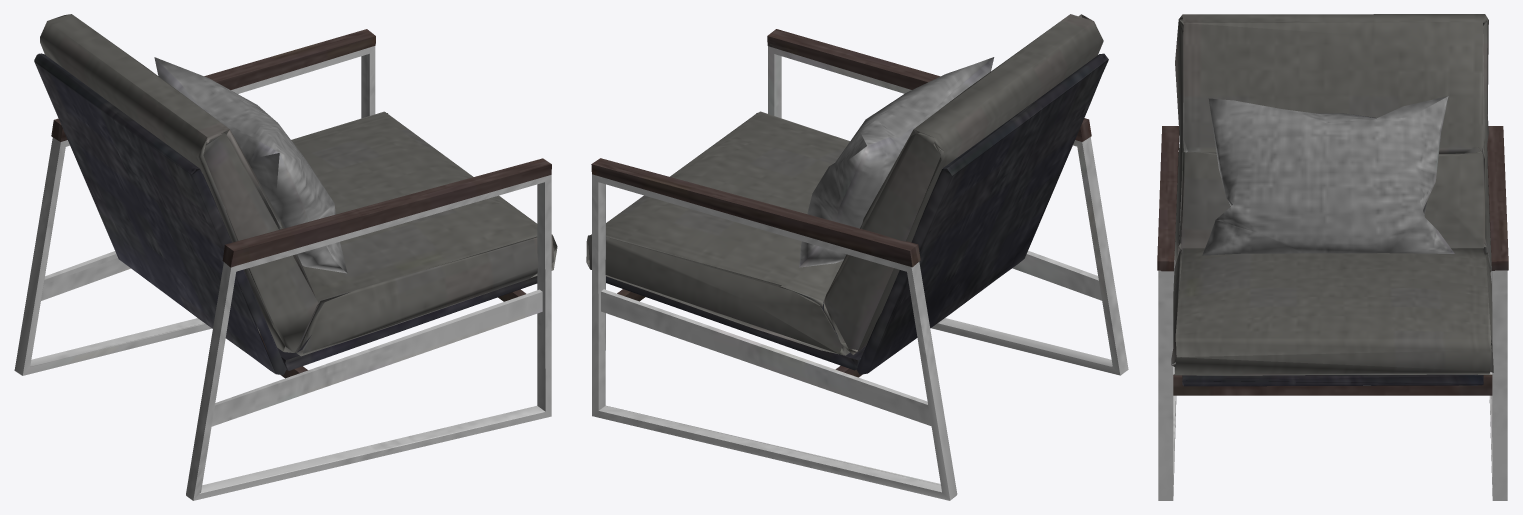
Rendered from S_Sofa0018.obj.
The picture shows the model from 3 angles, left to right: view 1: azimuth 30°, elevation 25°; view 2: azimuth 150°, elevation 25°; view 3: azimuth 270°, elevation 25°; orthographic projection. The views are drawn at different scales.
Bounding box in the file's own units: 0.76 × 0.69 × 0.656.
1 material, 1 textured.
